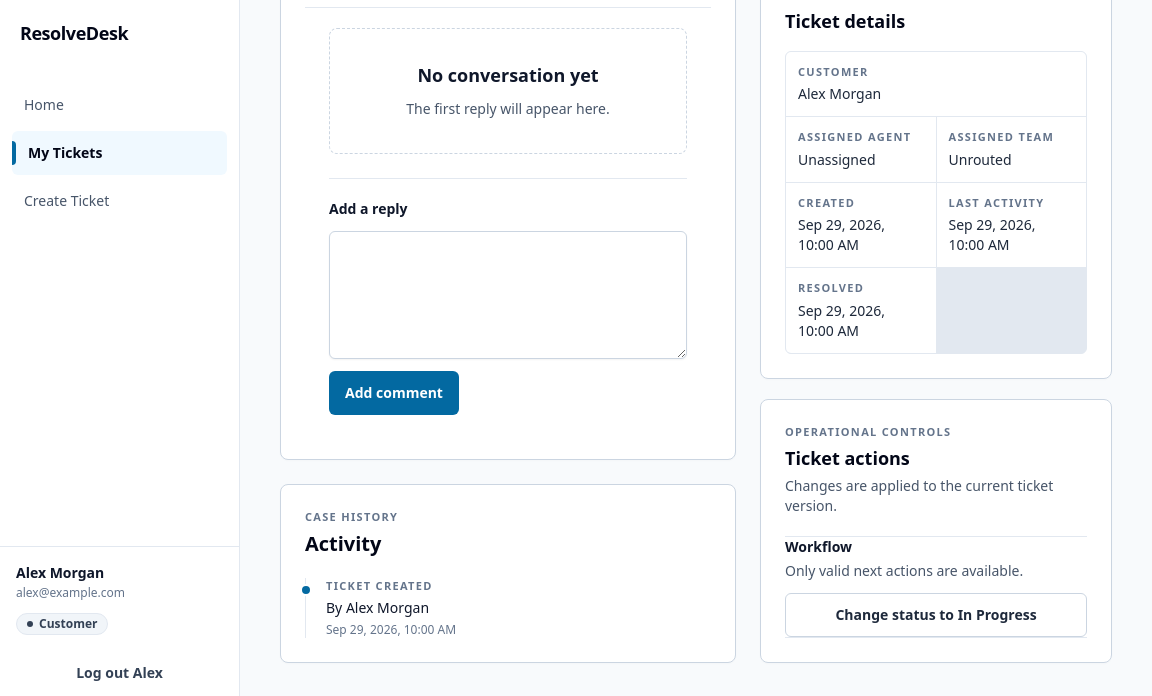
Test case: ticket assignment and lifecycle controls › allows a customer to reopen only a resolved ticket and handles stale changes by reloading
(page scrolled)
Click the button "Change status to In Progress" at [936, 615], box [785,593,1087,637]
(page scrolled)
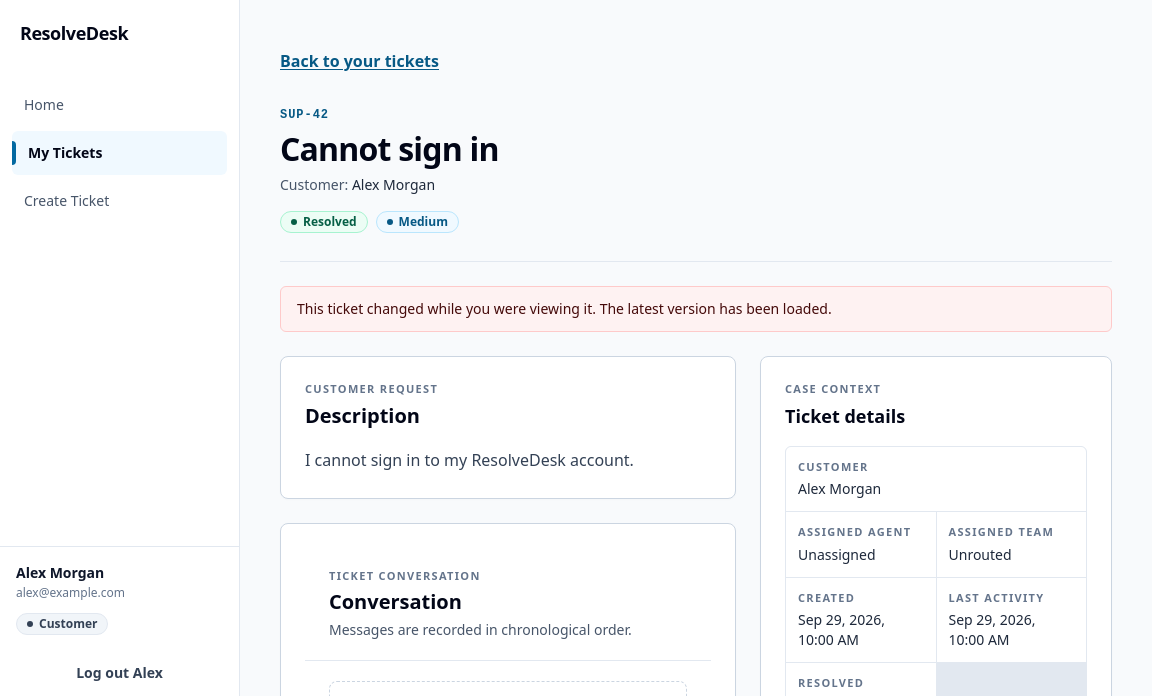
expect the text "This ticket changed while you were viewing it. The latest version has been loaded." is shown: met, box [297,299,832,318]
